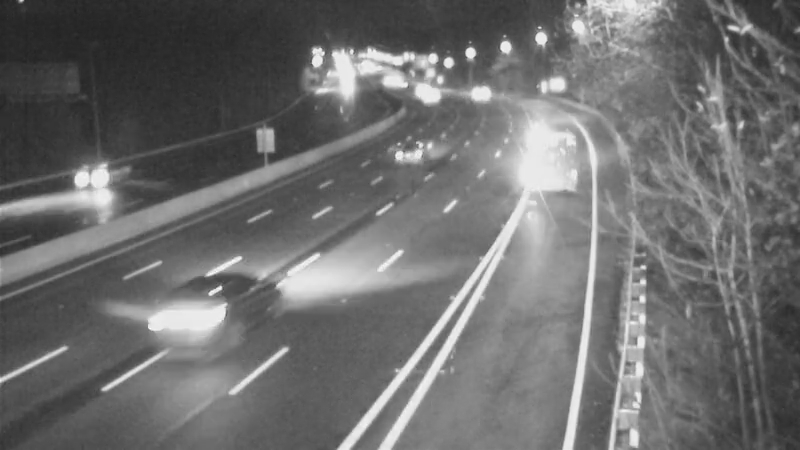vehicle: (134, 266, 244, 376), (366, 113, 446, 193), (502, 118, 582, 198), (50, 133, 130, 213), (455, 67, 505, 117), (407, 73, 457, 123)
